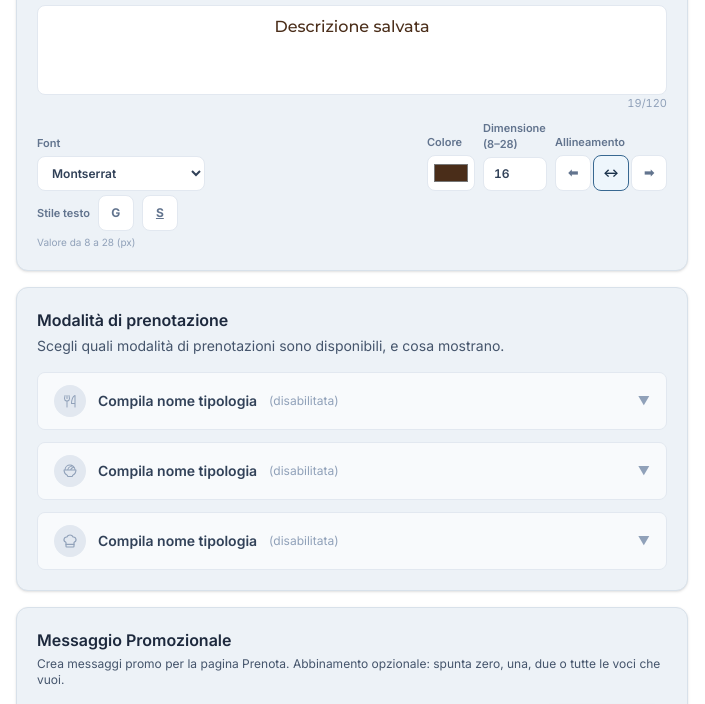
Scenario: settings-form-config zero modalità attive › admin: nessuna modalità abilitata mostra placeholder editor, non form demo pubblico
(page scrolled)
Click the 1st button "Compila nome tipologia (disabilitata) ▼".
click(70, 401)  # box [38,373,666,429]
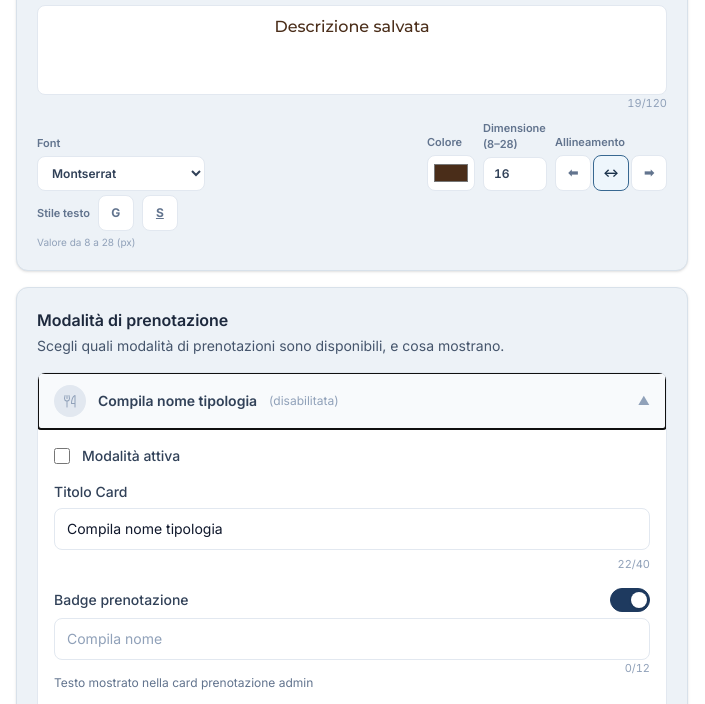
Expected: the field with placeholder "Nome della modalità" holds "Compila nome tipologia", [54,508,650,550]
